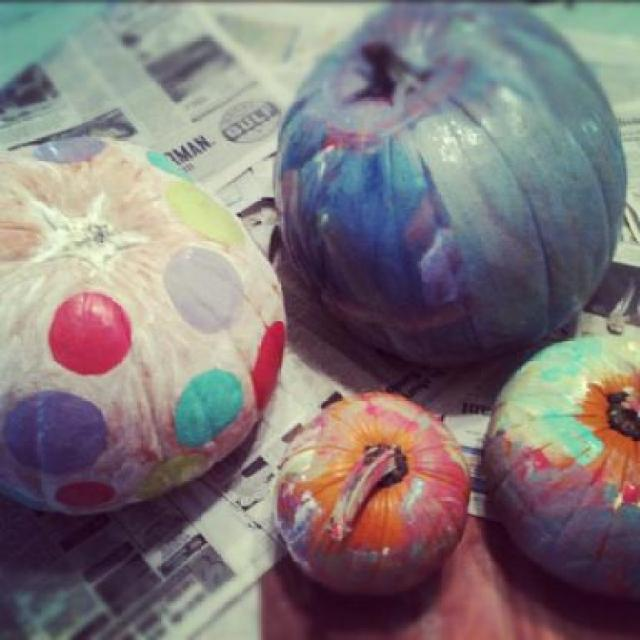Pumpkin: (272, 0, 628, 362), (0, 137, 286, 514), (481, 325, 639, 607), (267, 396, 467, 602)
